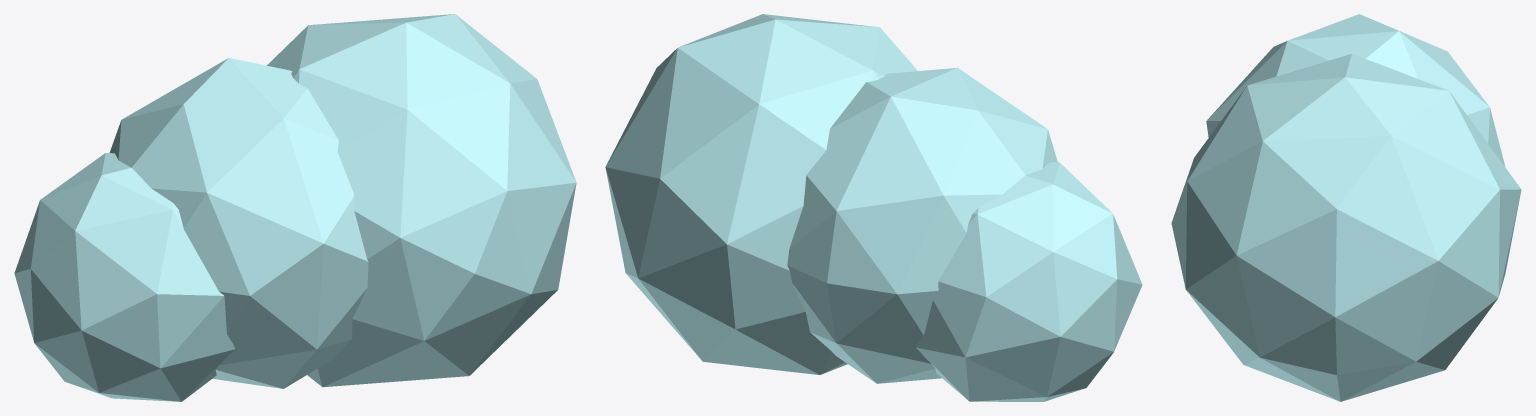
The model's file is cloud1_00008.fbx.
3 views of the same model, side by side, from view 1: azimuth 30°, elevation 25°; view 2: azimuth 150°, elevation 25°; view 3: azimuth 270°, elevation 25° (orthographic). The views are drawn at different scales.
Parts seen in each view (by area): view 1: cloud1; view 2: cloud1; view 3: cloud1.
Boxes of the visible parts, <box> form: cloud1: <box>14,14,576,401</box>; cloud1: <box>605,14,1142,401</box>; cloud1: <box>1171,14,1521,401</box>.
Size of the model in its own units: 535 by 348 by 350.
